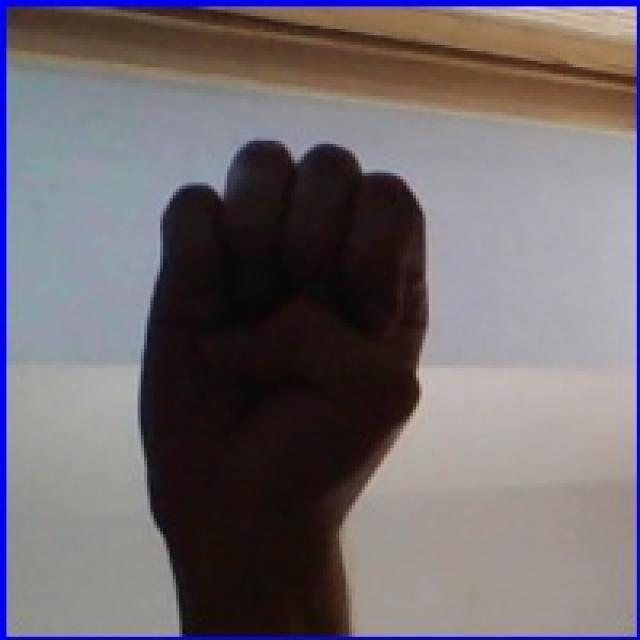E: (80, 110, 486, 638)
